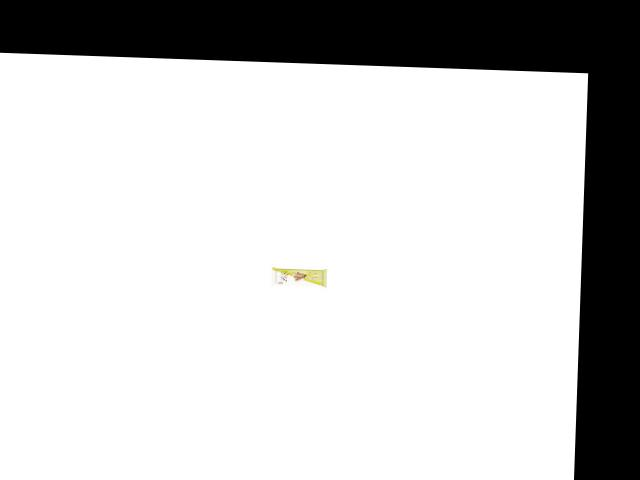chocolate: (267, 261, 330, 291)
